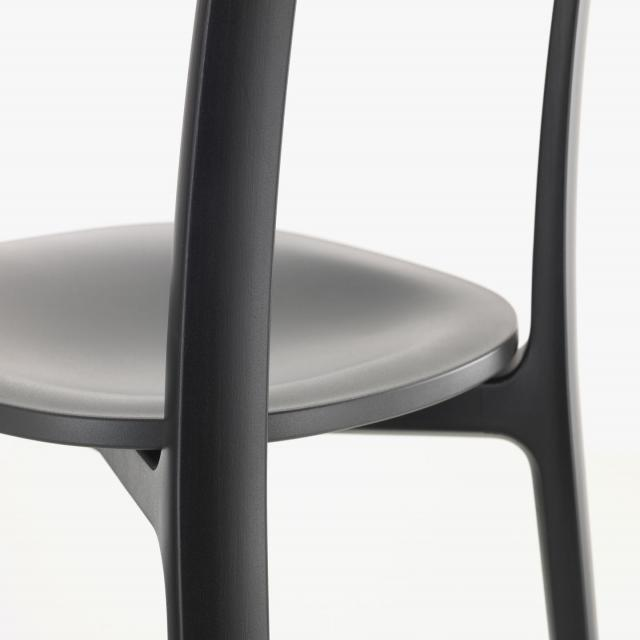Chair: (2, 5, 598, 640)
